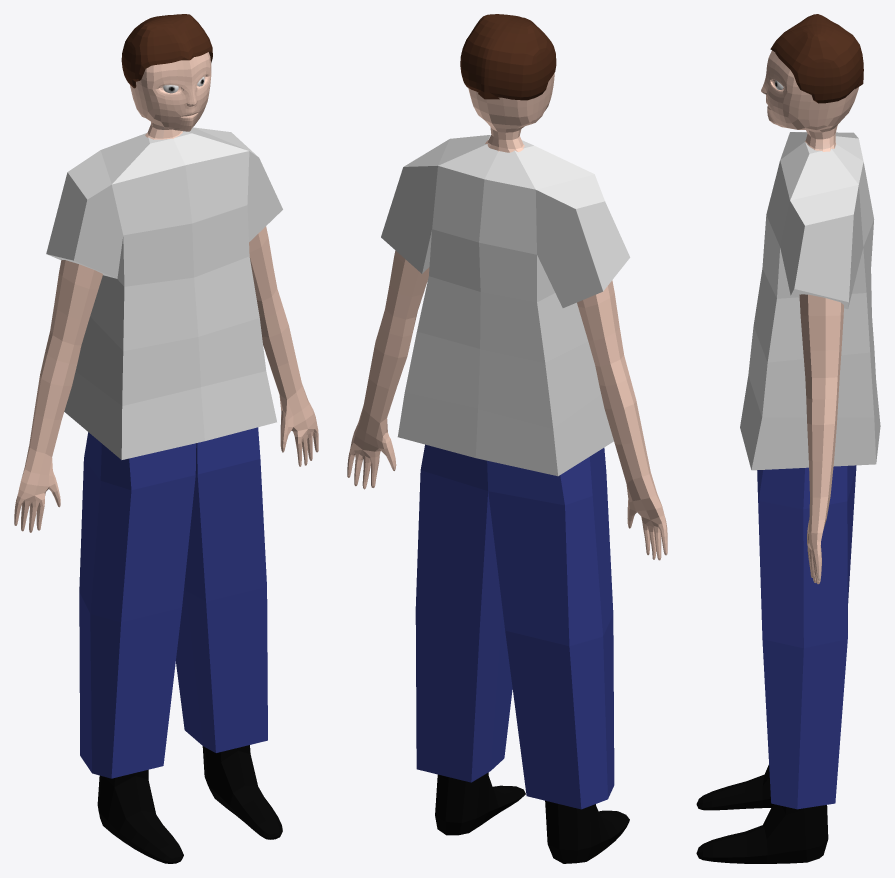
File: male3.fbx
The picture shows the model from 3 angles, left to right: view 1: azimuth 30°, elevation 25°; view 2: azimuth 150°, elevation 25°; view 3: azimuth 270°, elevation 25°; orthographic projection. The views are drawn at different scales.
Parts seen in each view (by area): view 1: t-shirt_male, pants_male, body, shorter_base; view 2: pants_male, t-shirt_male, body, shorter_base; view 3: t-shirt_male, pants_male, body, shorter_base.
Boxes of the visible parts, x1,y1,x2,y2 form: t-shirt_male: (46,127,282,459); pants_male: (79,427,267,778); body: (14,52,318,863); shorter_base: (121,14,212,88); pants_male: (415,444,614,809); t-shirt_male: (381,135,630,476); body: (347,73,667,863); shorter_base: (460,14,556,100); t-shirt_male: (740,132,880,470); pants_male: (757,465,856,809); body: (696,50,858,863); shorter_base: (770,14,863,103).
Bounding box in the file's own units: 320 × 796 × 164.
4 materials, 1 textured.
